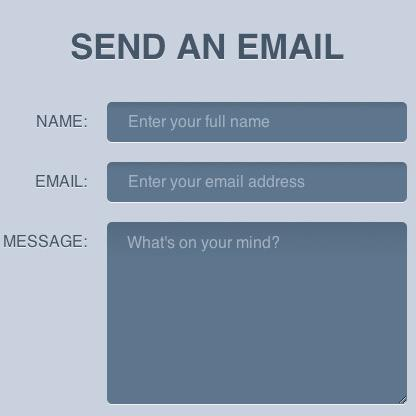field: (104, 220, 410, 406), (105, 160, 407, 206), (105, 101, 410, 144)
field_with_label: (2, 218, 412, 407), (34, 158, 412, 207), (35, 99, 413, 146)
